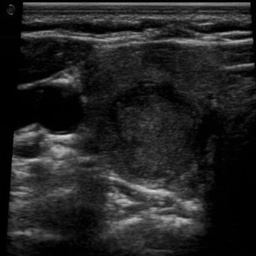mass: (105, 89, 201, 185)
